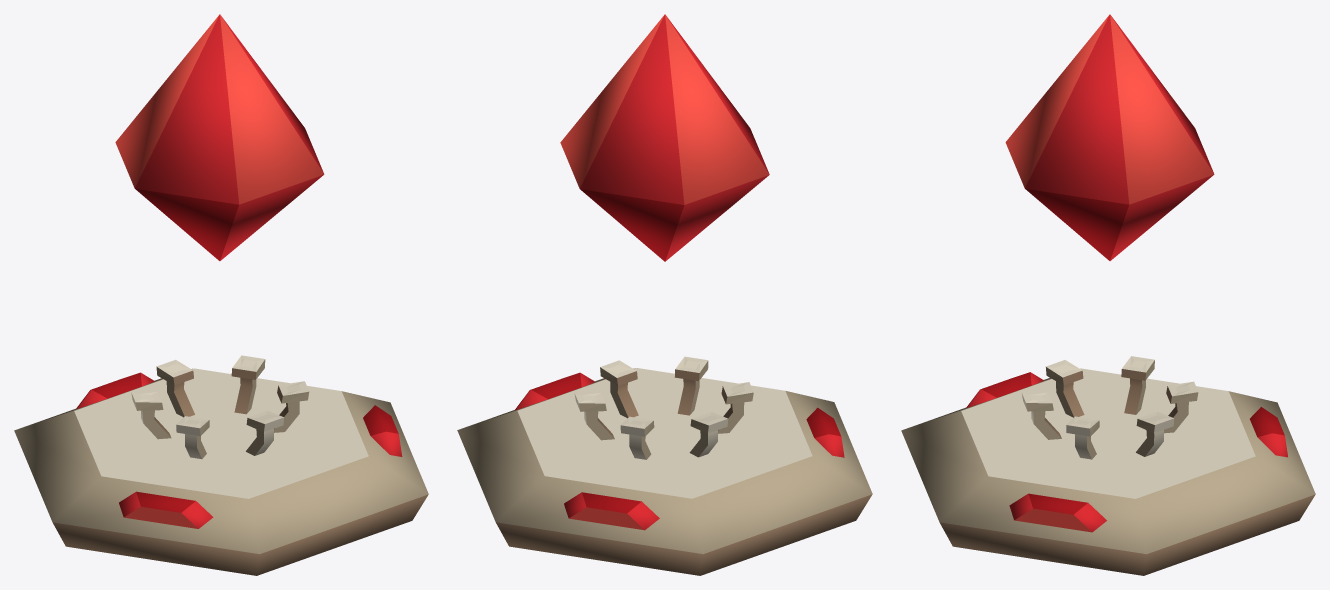
The picture shows the model from 3 angles, left to right: view 1: azimuth 30°, elevation 25°; view 2: azimuth 150°, elevation 25°; view 3: azimuth 270°, elevation 25°; orthographic projection.
Visible parts, largest first — view 1: Cylinder035; view 2: Cylinder035; view 3: Cylinder035.
Part boxes in pixels (bbox=[...]): Cylinder035: bbox=[14, 14, 428, 575]; Cylinder035: bbox=[457, 14, 872, 575]; Cylinder035: bbox=[901, 14, 1315, 575].
Bounding box in the file's own units: 34.58 × 46.85 × 32.99.
